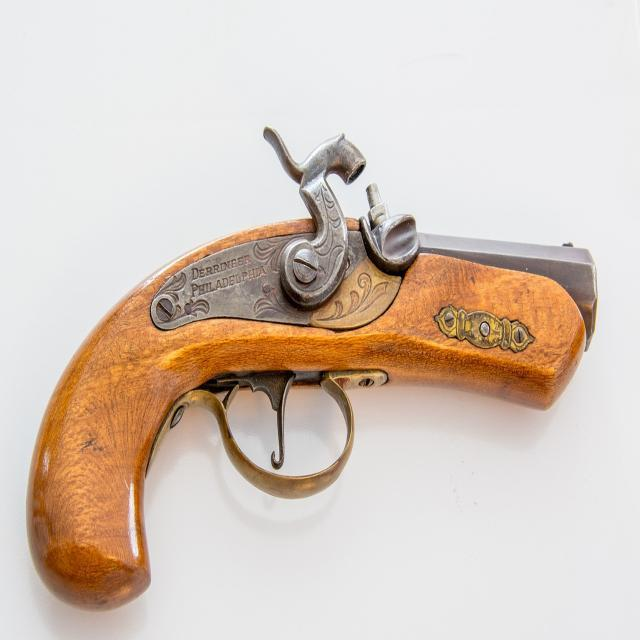Gun: (29, 128, 596, 608)
